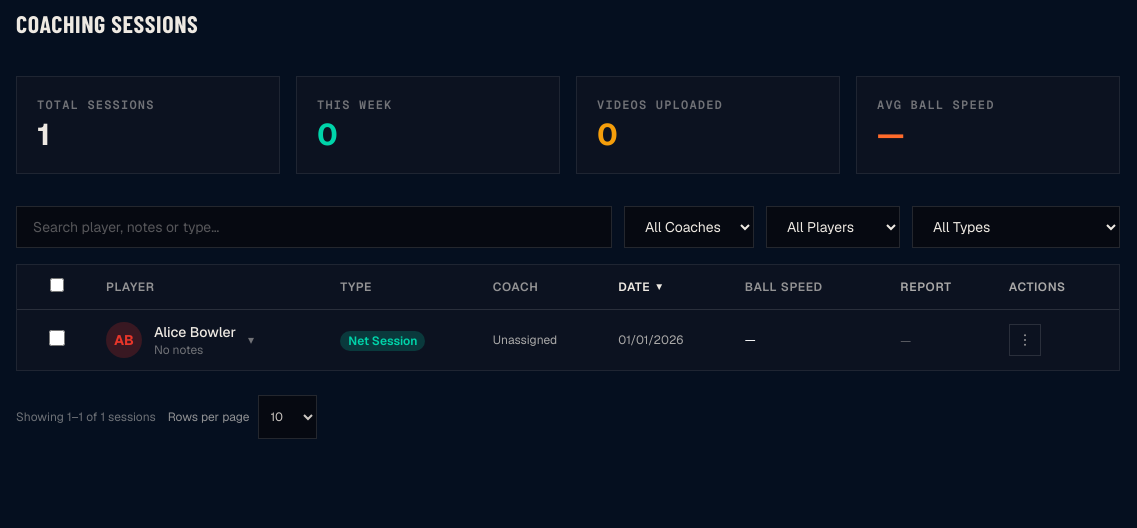
Scenario: SessionsClient › selecting a row shows the bulk action bar with the right count, and Clear deselects everything
Expected: the text "Showing 1–1 of 1 sessions" is shown, [16,409,156,425]
Expected: the text "selected" is not shown
Click the checkbox titled "Select for bulk actions" at (57, 338), box [49,330,65,346]
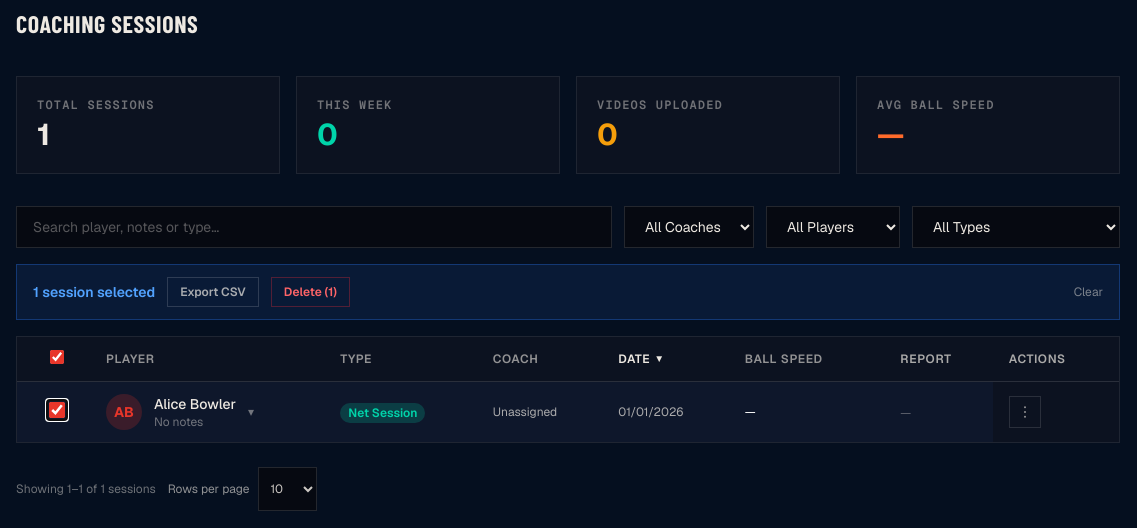
Expected: the text "1 session selected" is shown, [33,282,155,302]
Click the button "Clear" at (1088, 292), box [1074,284,1103,300]
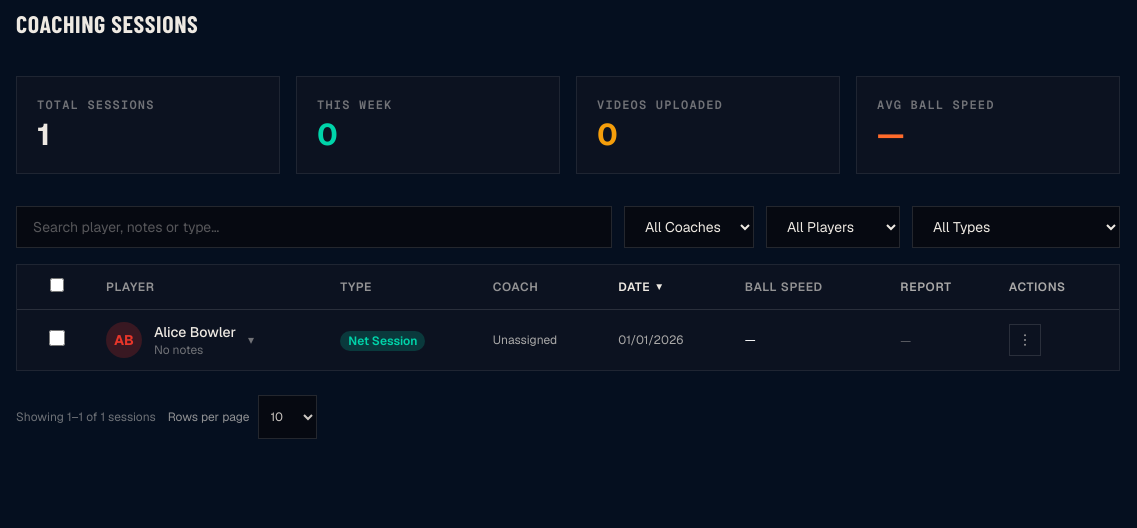
Expected: the text "selected" is gone
